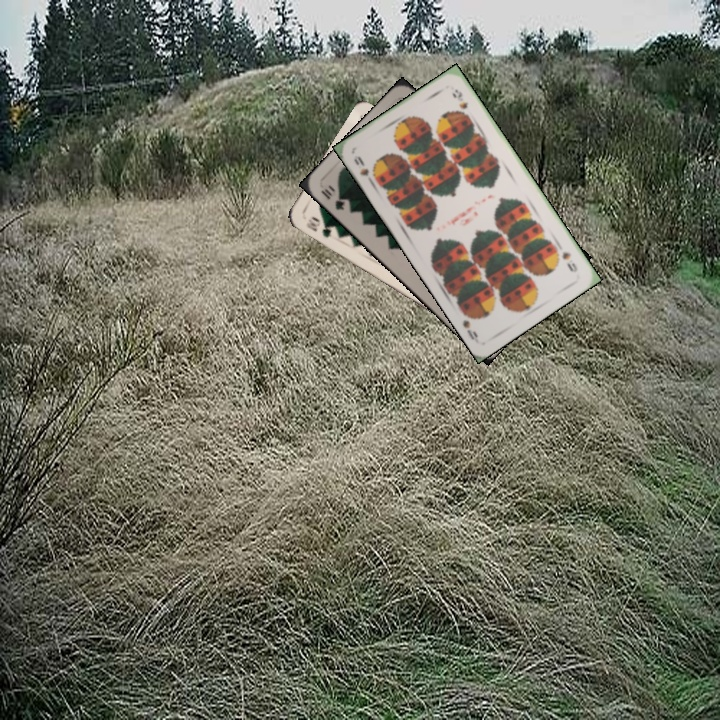G10: (302, 212, 335, 240), (317, 184, 348, 213)
S9: (350, 152, 377, 187), (558, 248, 580, 275)
